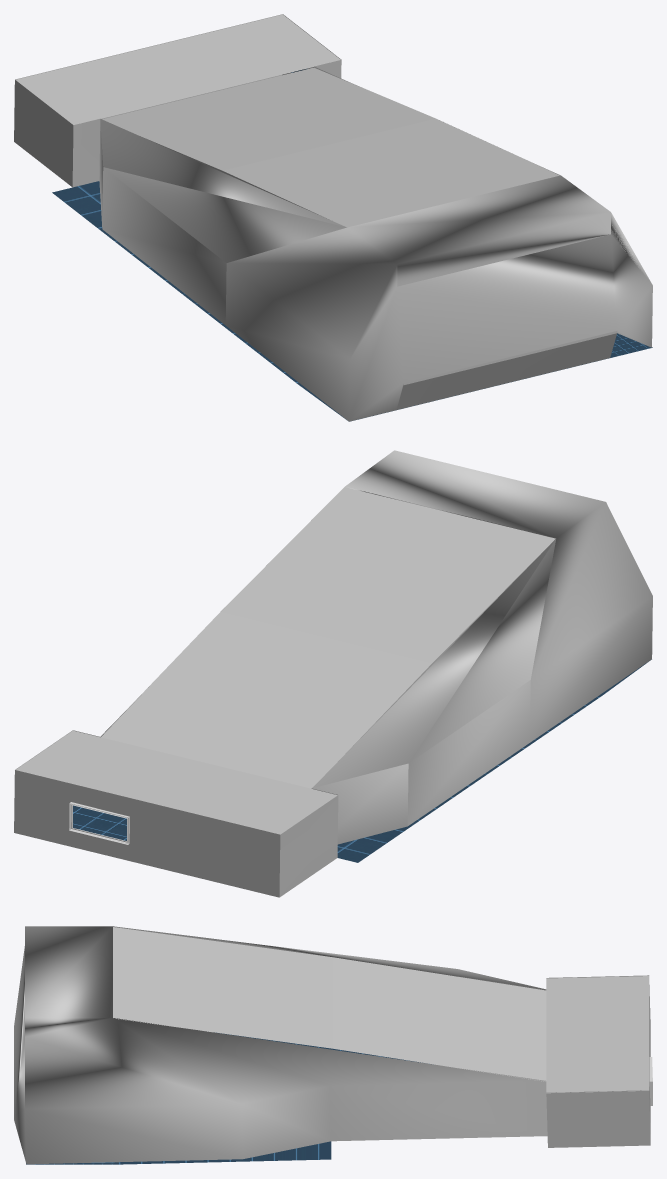
Rendered from BiggerRoom.fbx.
3 views of the same model, one above another, from view 1: azimuth 30°, elevation 25°; view 2: azimuth 150°, elevation 25°; view 3: azimuth 270°, elevation 25° (orthographic). The views are drawn at different scales.
Visible parts, largest first — view 1: Room1, Roof, Floor; view 2: Roof, Room1, Floor; view 3: Room1, Roof, Floor.
Part boxes in pixels (x1=…): Room1: x1=14, y1=14, x2=652, y2=421; Roof: x1=15, y1=14, x2=559, y2=227; Floor: x1=52, y1=181, x2=652, y2=421; Roof: x1=16, y1=487, x2=555, y2=834; Room1: x1=14, y1=450, x2=652, y2=897; Floor: x1=73, y1=659, x2=651, y2=862; Room1: x1=14, y1=926, x2=650, y2=1164; Roof: x1=113, y1=927, x2=649, y2=1093; Floor: x1=26, y1=1032, x2=429, y2=1164.
Bounding box in the file's own units: 5199 × 2396 × 10787.
